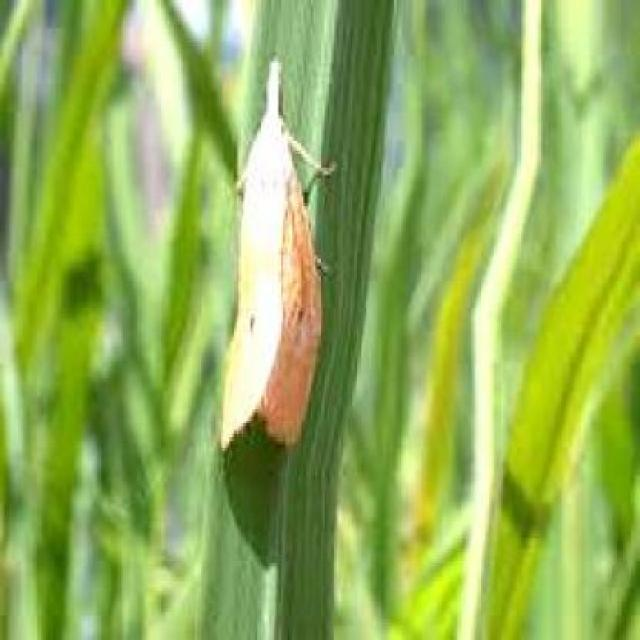stem-borer: (220, 57, 337, 454)
